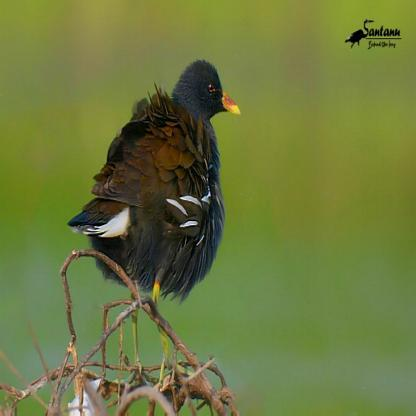Burung: (67, 58, 239, 374)
